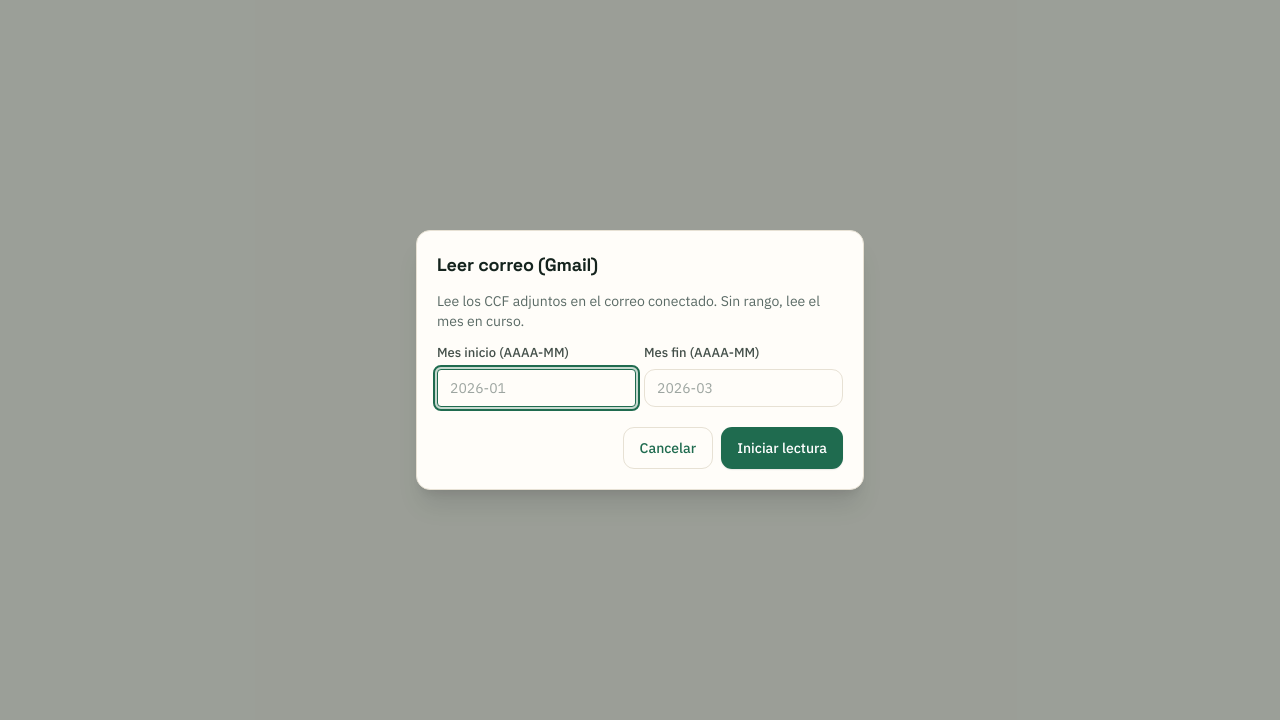
Test: LeerCorreoModal › encola la lectura y muestra el progreso del job
Click the button "Iniciar lectura" at (782, 448), box [721, 427, 843, 469]
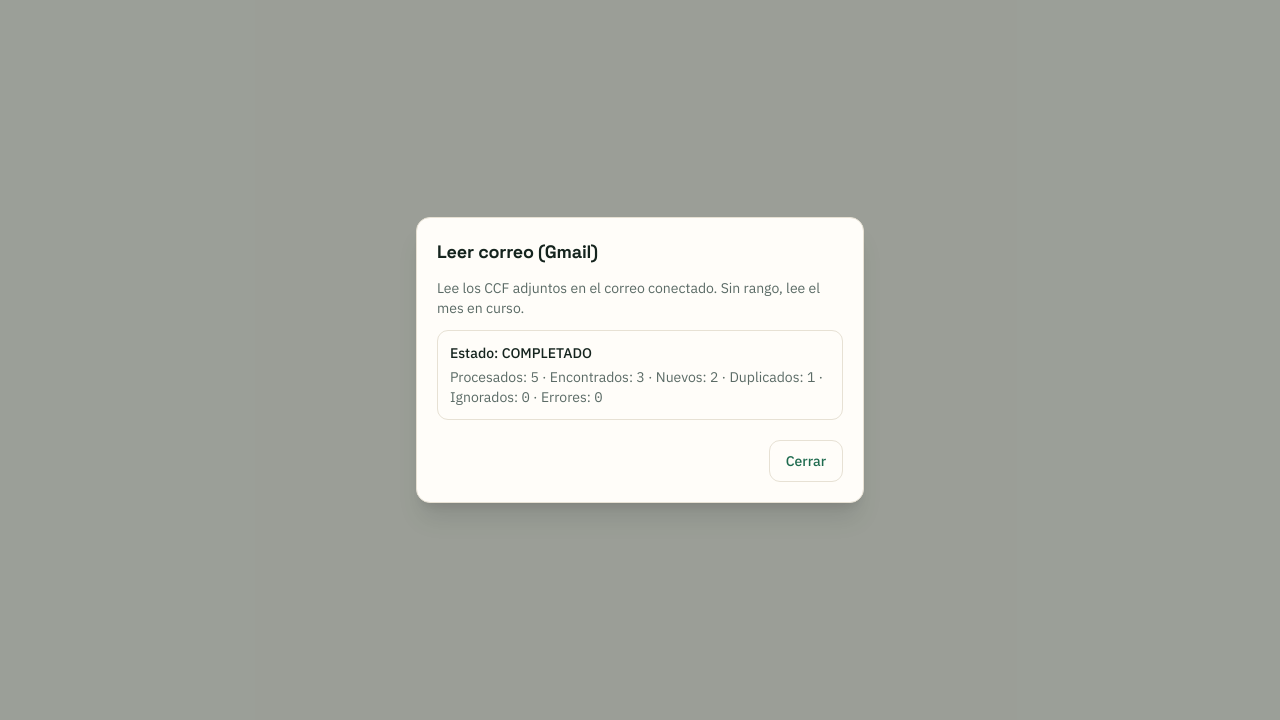
Check: the text "Nuevos" is shown, box [645, 368, 710, 386]
Check: the text "Estado: COMPLETADO" is shown, box [450, 344, 592, 362]
